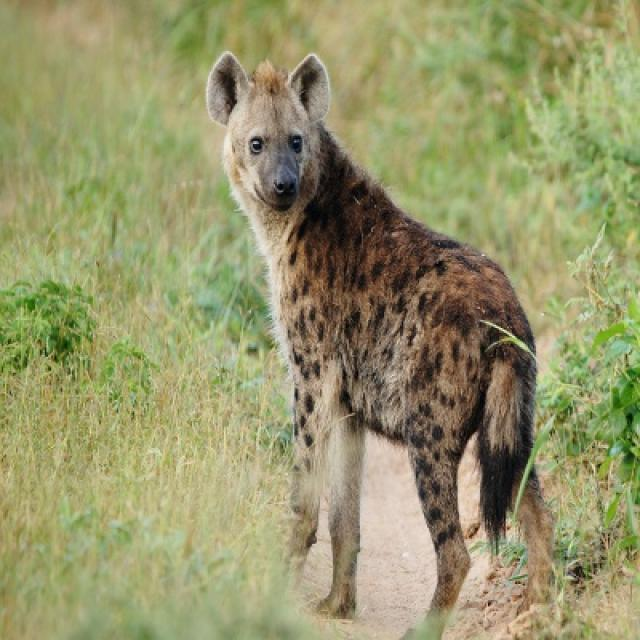hyena: (203, 51, 539, 638)
